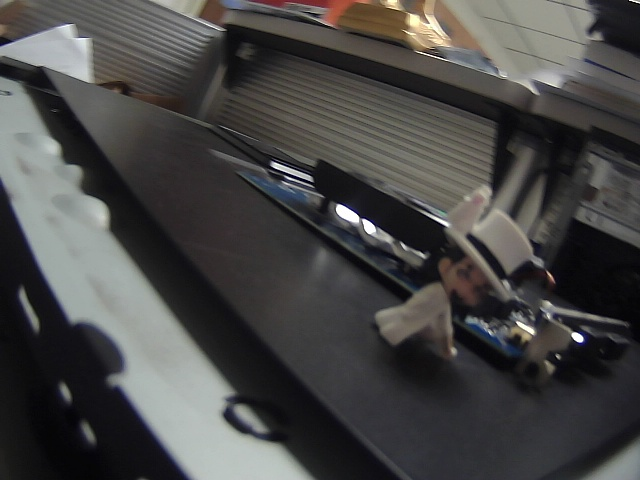lucci: (367, 183, 543, 380)
